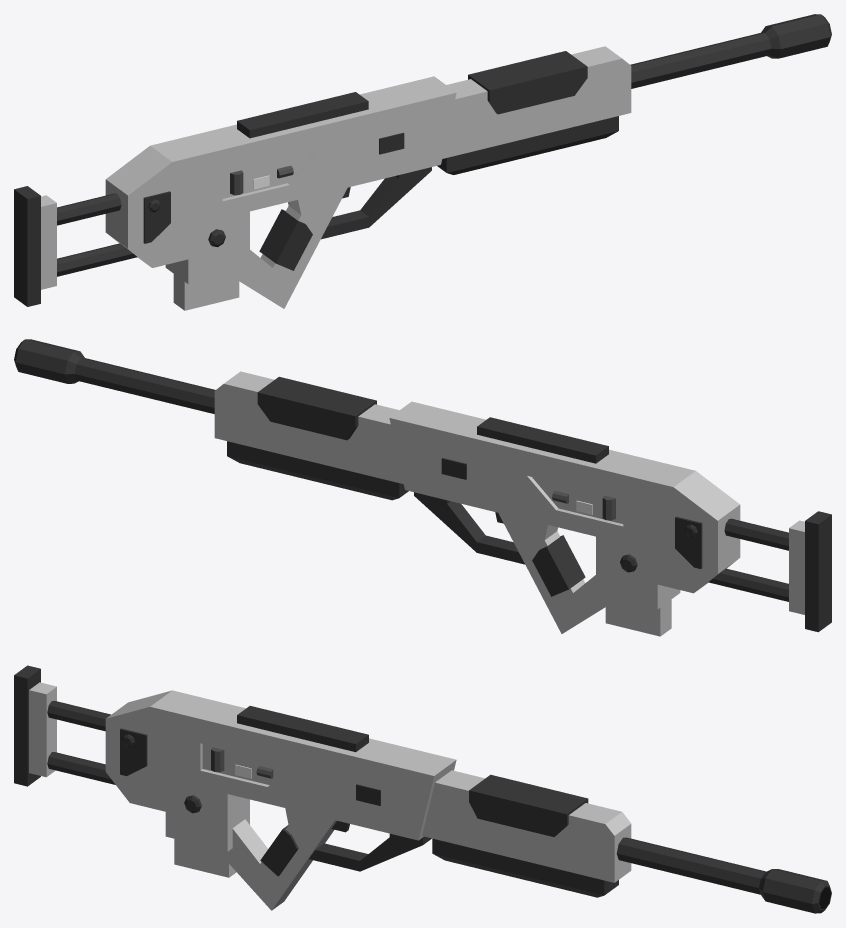
The model's file is Rifle_Sniper_C_V4.FBX.
3 renders of one model, top to bottom at view 1: azimuth 30°, elevation 25°; view 2: azimuth 150°, elevation 25°; view 3: azimuth 330°, elevation 25°, orthographic.
Visible parts, largest first — view 1: Rifle_Sniper_C_V4, Magazine; view 2: Rifle_Sniper_C_V4, Magazine; view 3: Rifle_Sniper_C_V4, Magazine.
Boxes of the visible parts, x1,y1,x2,y2 form: Rifle_Sniper_C_V4: (14,14,831,308); Magazine: (173,274,239,310); Rifle_Sniper_C_V4: (14,339,831,633); Magazine: (605,599,671,636); Rifle_Sniper_C_V4: (14,665,831,913); Magazine: (174,839,236,877).
Size of the model in its own units: 414 by 92.07 by 25.59.
